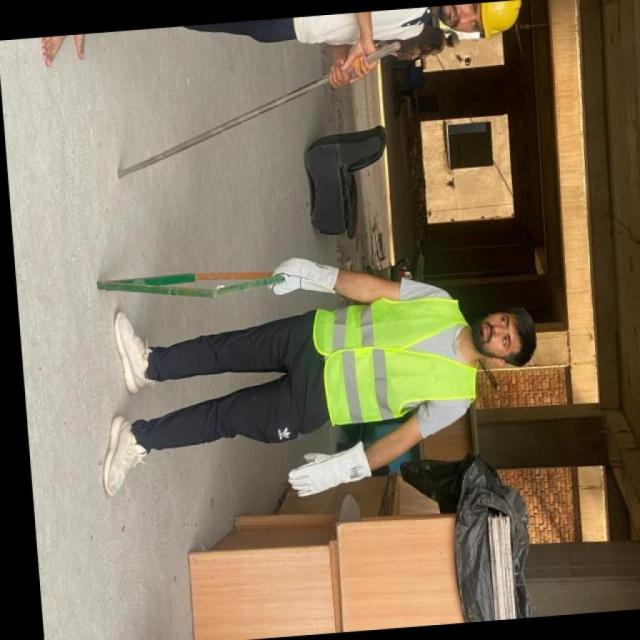Gloves-Detection: (284, 439, 376, 495), (264, 251, 348, 303)
